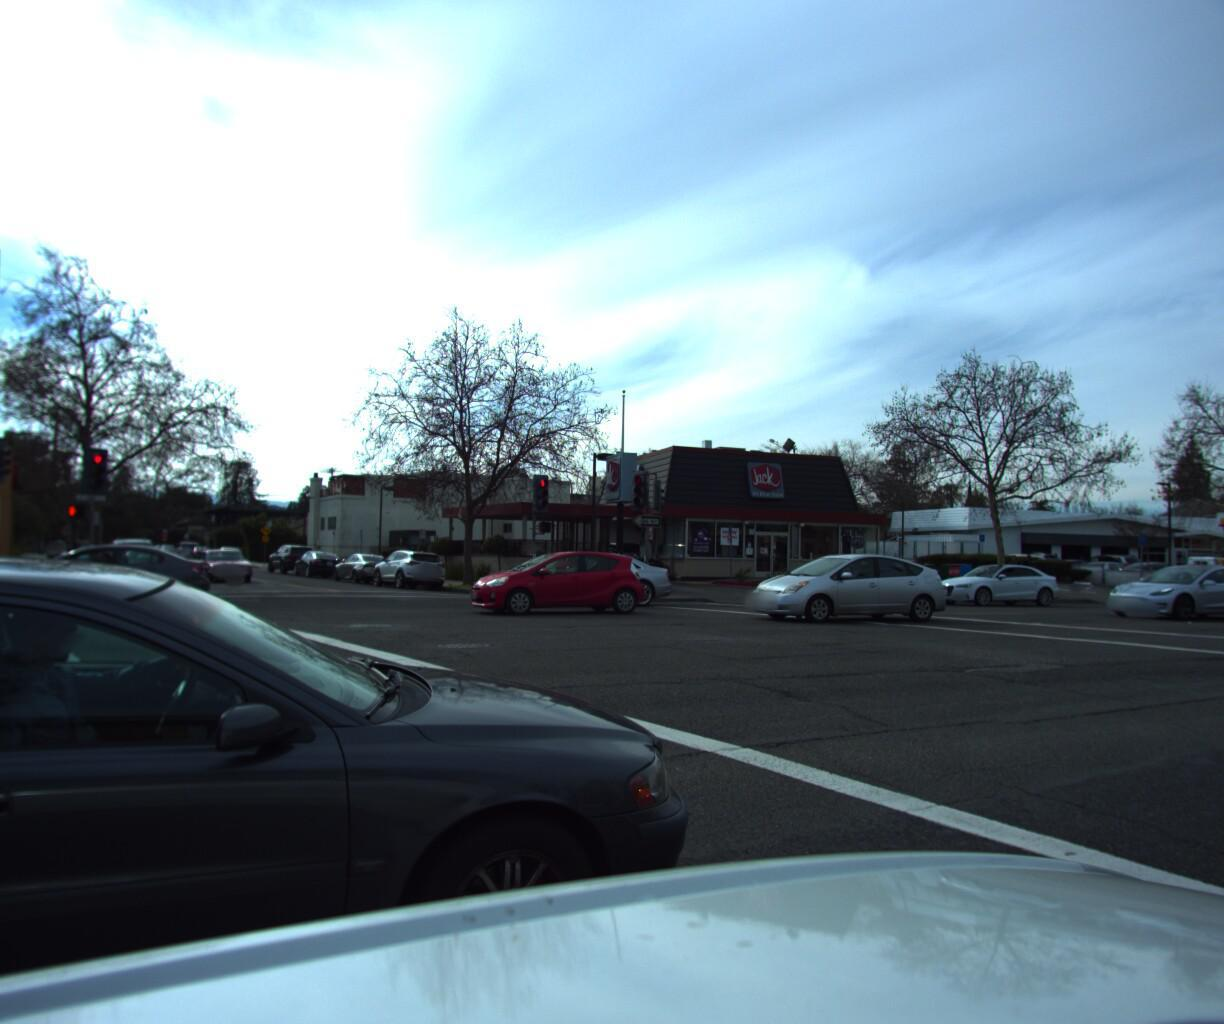car: (0, 509, 758, 1024), (738, 549, 948, 623), (0, 541, 210, 613), (464, 542, 653, 614), (494, 547, 661, 607), (1099, 556, 1224, 617), (927, 555, 1065, 601), (369, 544, 451, 590), (594, 538, 663, 577), (1163, 548, 1224, 587), (192, 544, 254, 582), (332, 550, 401, 583), (291, 548, 350, 578), (267, 541, 315, 571), (1037, 534, 1101, 556), (1069, 532, 1133, 554), (1204, 550, 1224, 605), (376, 541, 418, 565), (173, 539, 201, 557)
